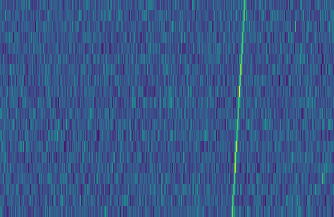signal: (228, 0, 250, 217)
